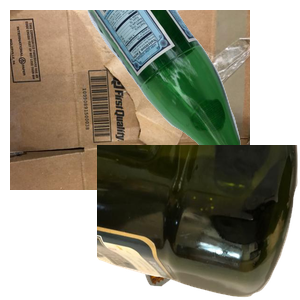cardboard: (10, 10, 250, 190)
glass: (75, 10, 300, 190)
plastic: (97, 145, 300, 300)
trash: (103, 147, 300, 300)
